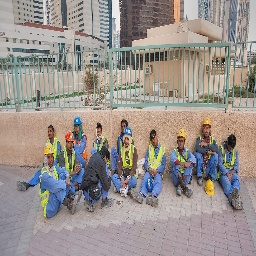helmet: (43, 141, 55, 155), (66, 131, 74, 142), (74, 115, 82, 125)
person: (218, 131, 245, 217), (81, 143, 114, 210), (193, 113, 220, 192), (41, 142, 70, 214), (114, 126, 141, 200), (171, 130, 196, 200), (142, 130, 165, 204), (59, 129, 76, 177), (71, 117, 87, 164), (91, 122, 110, 155)
vest: (220, 143, 238, 181), (119, 144, 137, 176), (148, 144, 165, 177), (173, 147, 189, 176), (62, 144, 75, 174)
